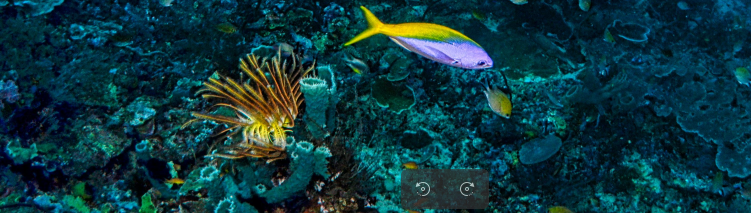fishSmall: (342, 5, 493, 70), (475, 75, 513, 120)
